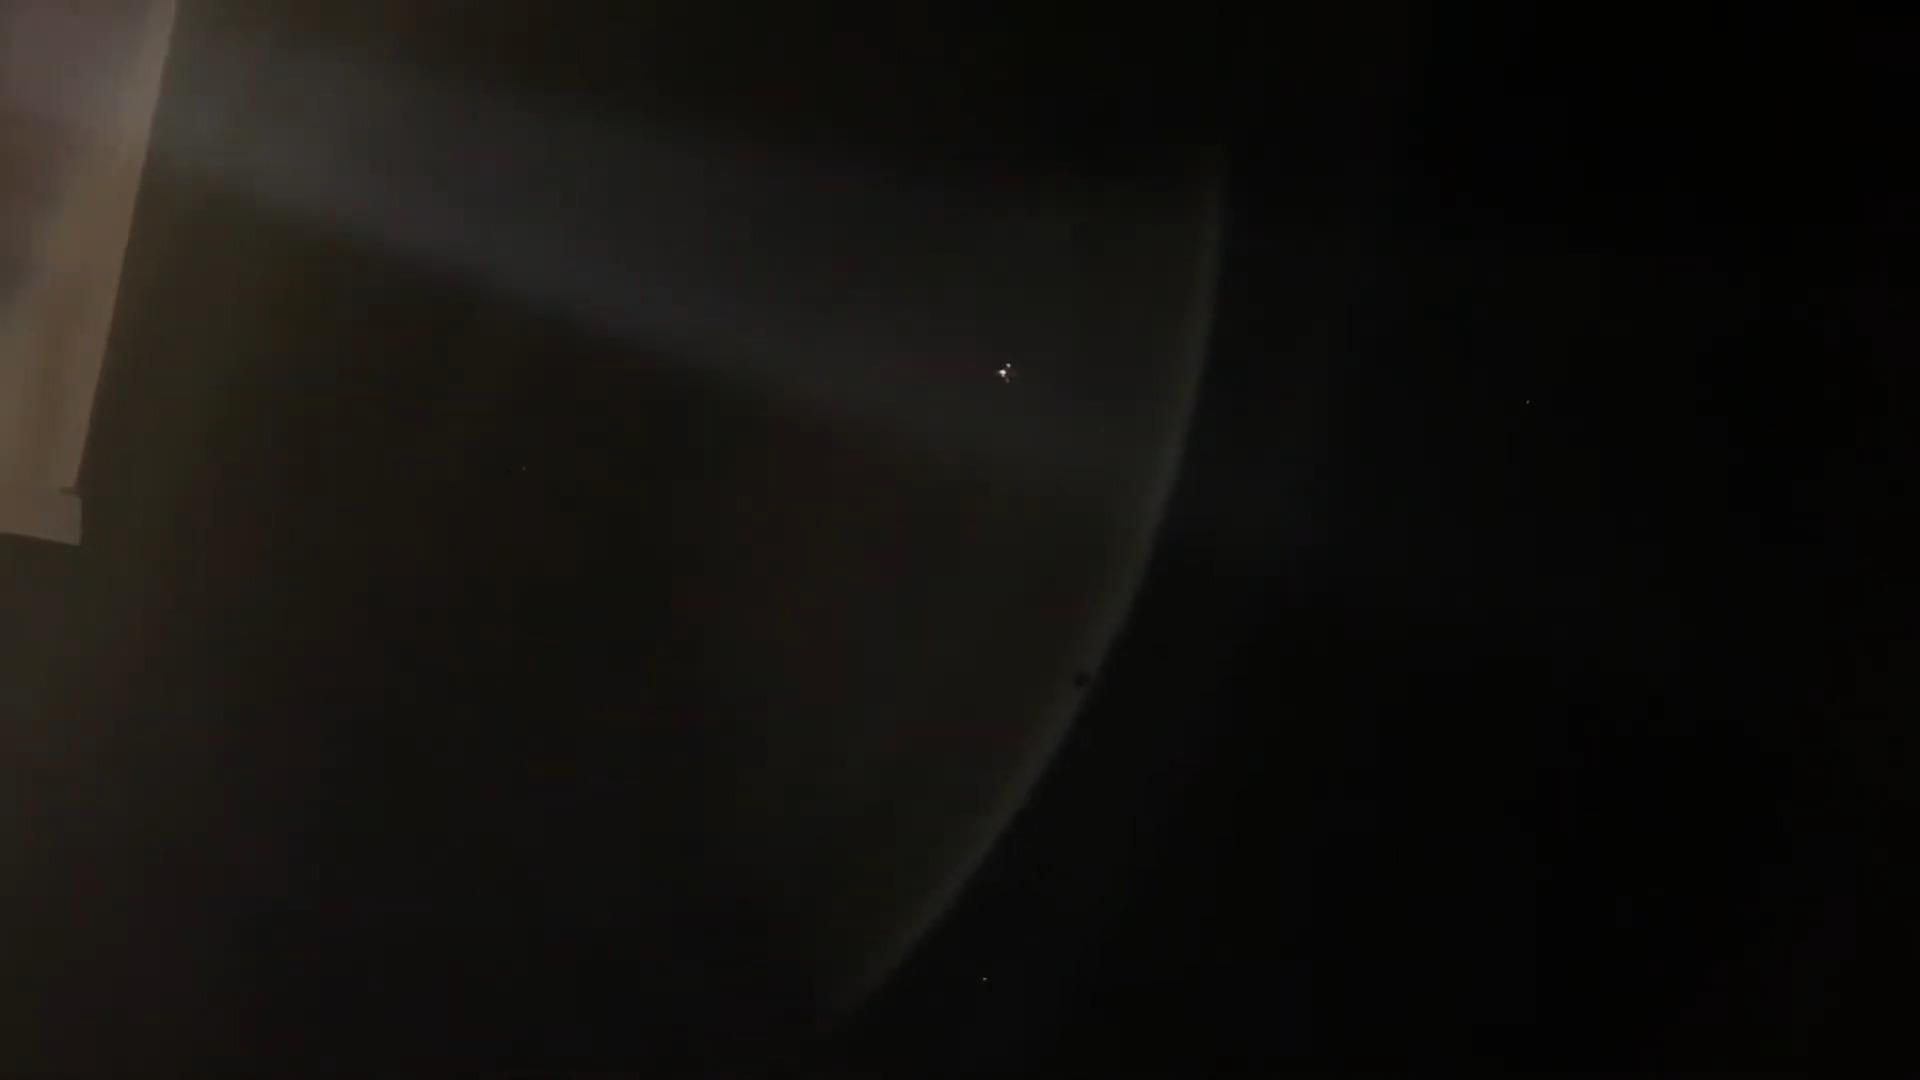Plane: (986, 348, 1031, 398)
